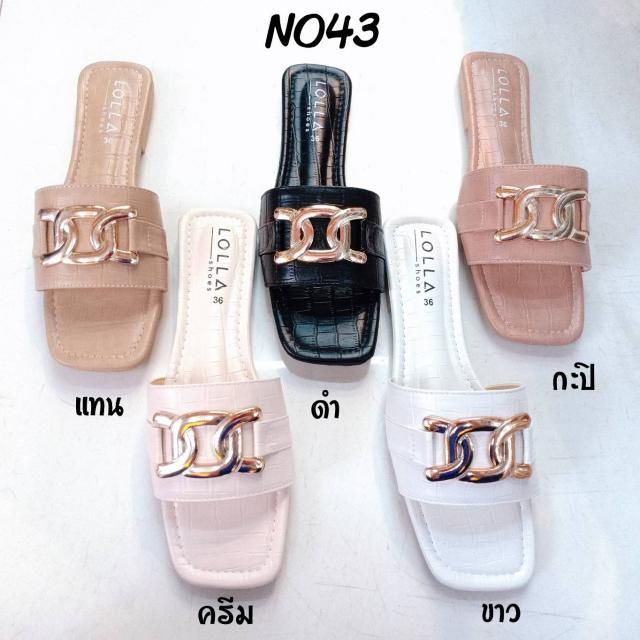black: (267, 68, 377, 364)
cream: (149, 207, 290, 587)
kapi: (462, 51, 588, 347)
tan: (48, 64, 164, 368)
white: (383, 225, 531, 594)
